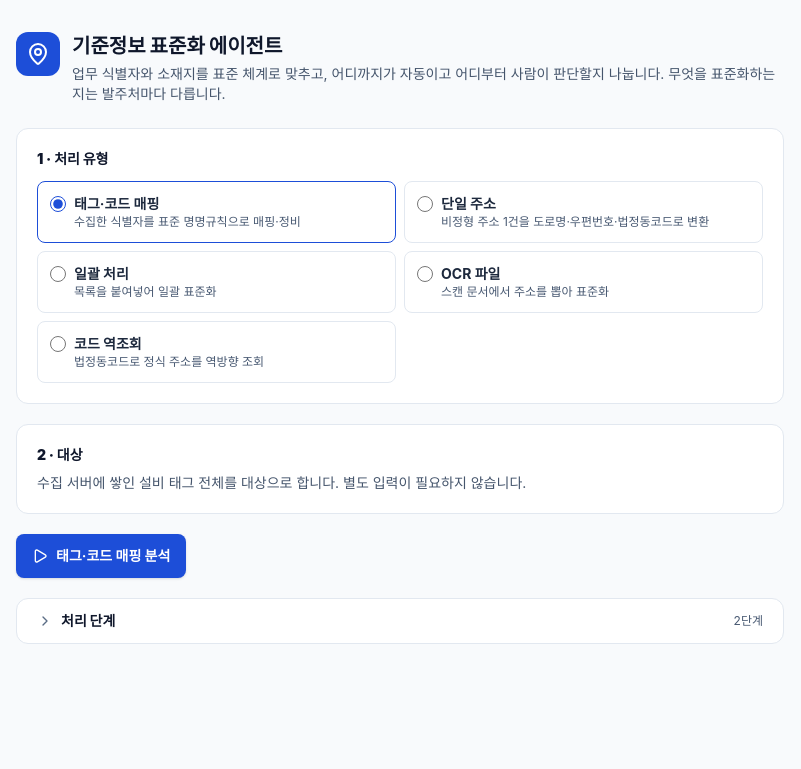
it: MappingPage › 자동 확정을 반영하면 표준화율 변화가 보인다
Step 1. Click the button "태그·코드 매핑 분석" → (101,556), box [16,534,186,578]
(page scrolled)
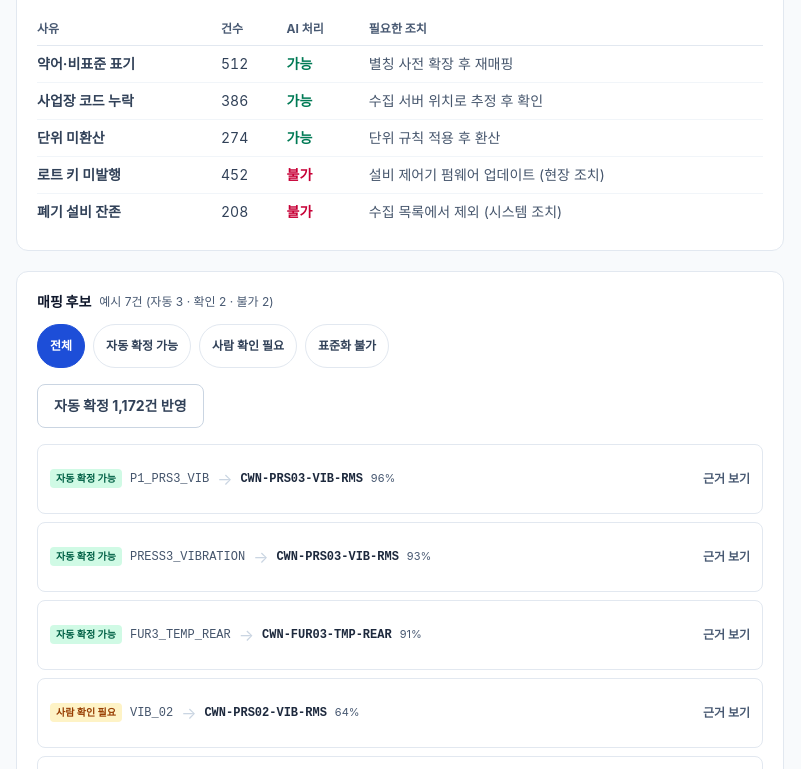
Step 2. Click the button "자동 확정 1,172건 반영" → (120,406), box [37,384,204,428]
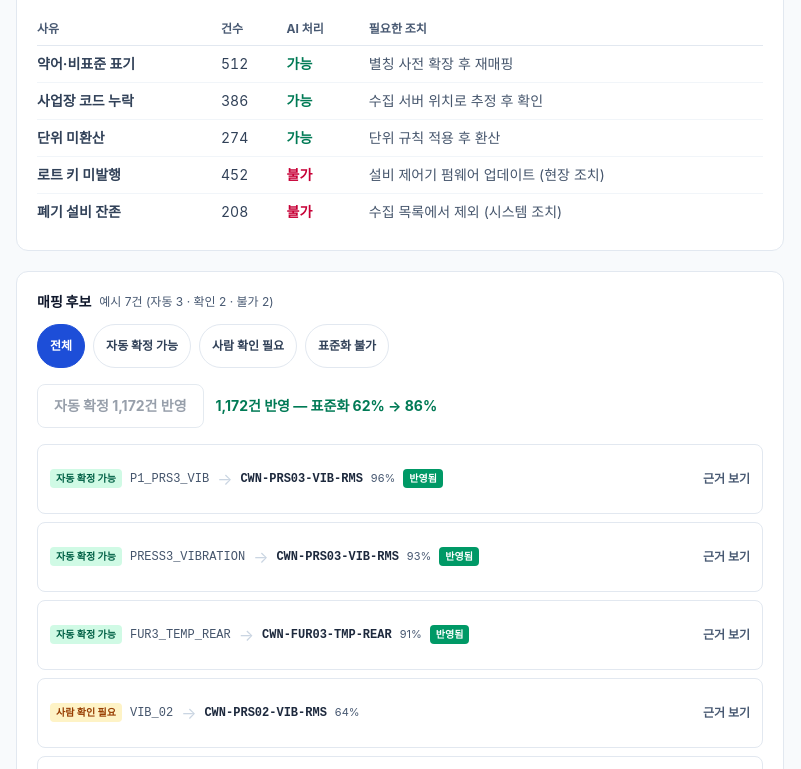
Expected: the text "1,172건 반영 — 표준화 62% → 86%" is shown, [216,396,437,416]
